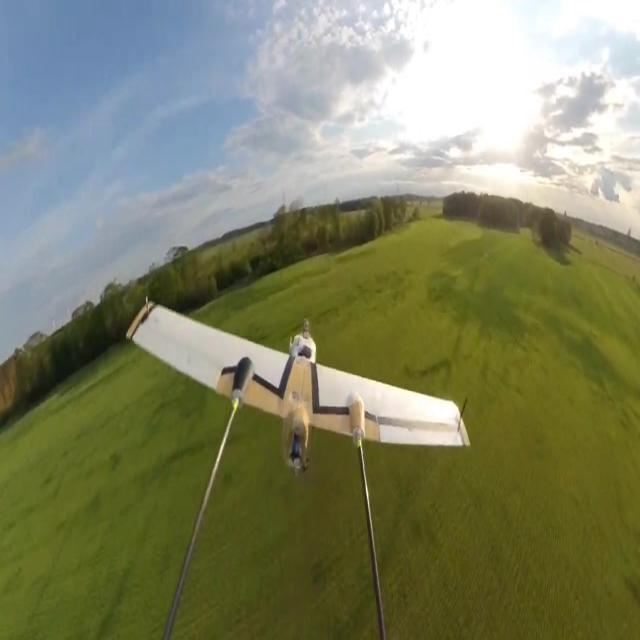iha: (123, 291, 470, 477)
